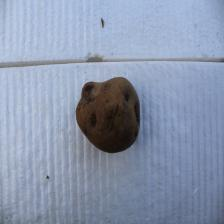Diseased-fungal potato: (76, 76, 141, 154)
